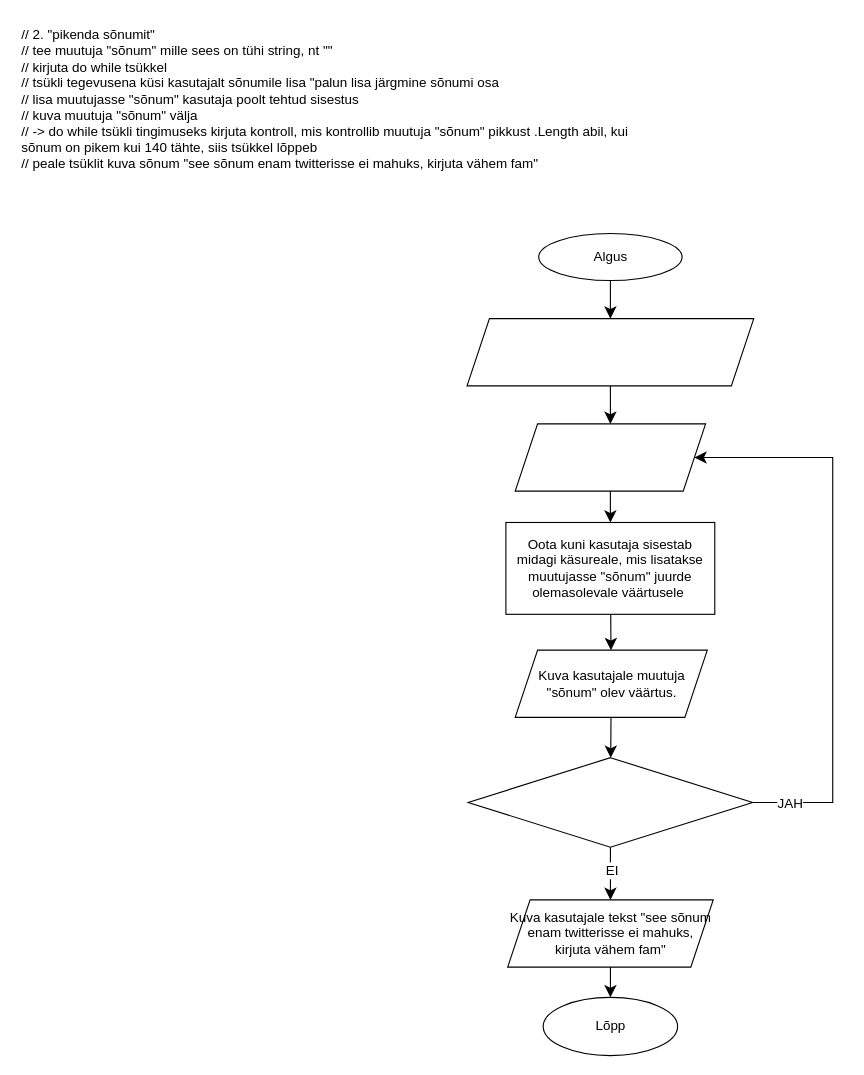
The diagram is 864 pixels wide and 1075 high, and some of its shapes have lost their labels. Each missing label, with the box of its shape:
Kas muutuja "sõnum" olev väärtus on lühem kui 140 tähte?: (467, 757, 753, 847)
Kuva kasutajale tekst "Palun lisa järgmine sõnumi osa": (514, 423, 706, 491)
Tekitame muutuja "sõnum" kuhu omistame algväärtusena tühja sõne, või "": (466, 318, 754, 386)
